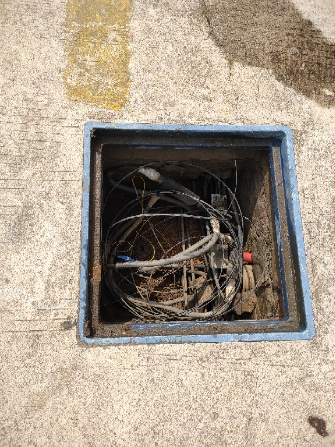lose: (78, 119, 319, 347)
